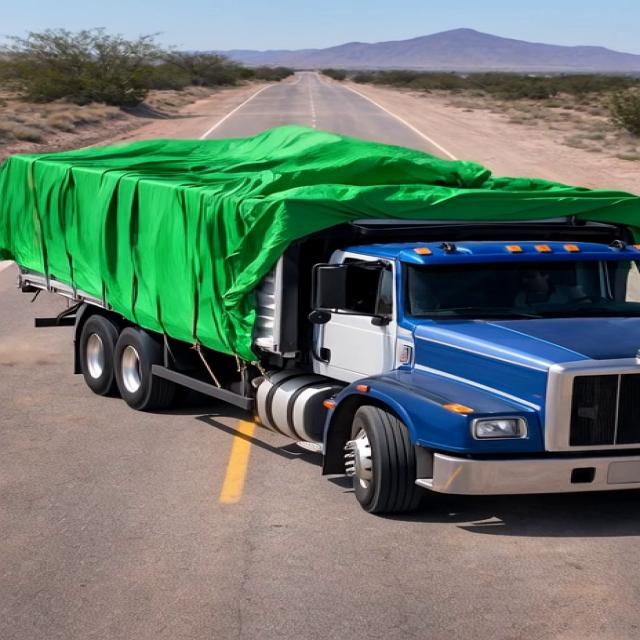Box: (8, 128, 624, 222)
Truck: (1, 74, 640, 522)
